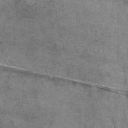finishing roll printing: (0, 62, 128, 98)
